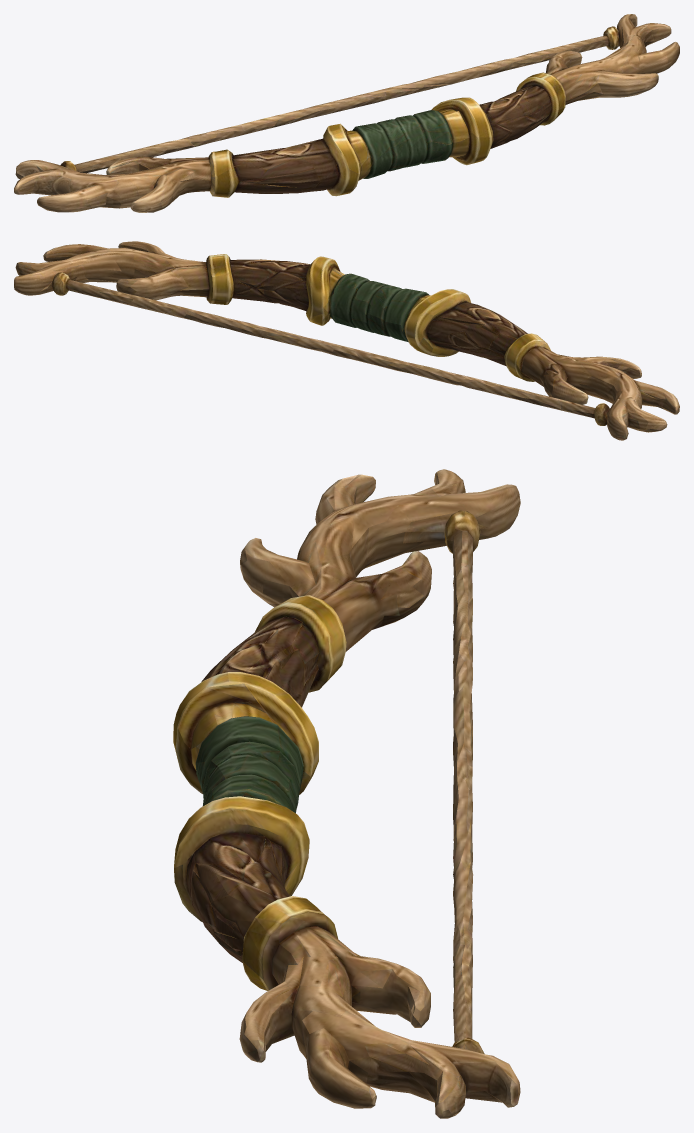
The model's file is staghunter_bow.glb.
3 renders of one model, top to bottom at view 1: azimuth 30°, elevation 25°; view 2: azimuth 150°, elevation 25°; view 3: azimuth 270°, elevation 25°, orthographic. The views are drawn at different scales.
Bounding box in the file's own units: 1.96 × 0.1777 × 0.4528.
1 material, 1 textured.
